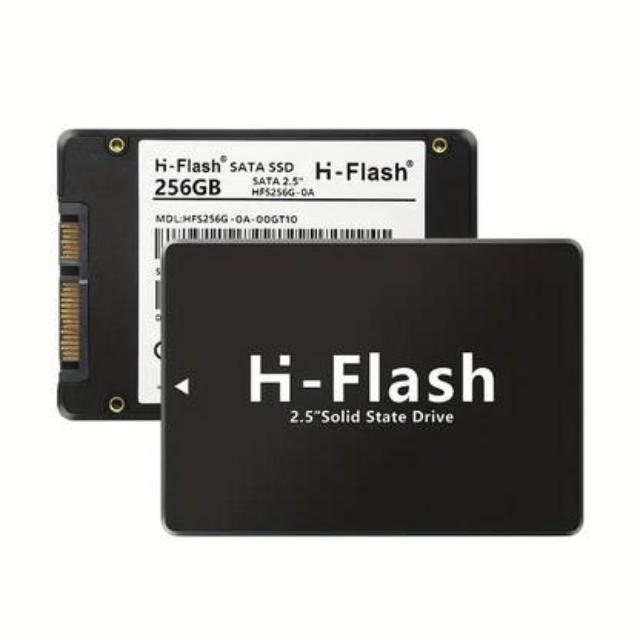DISK: (155, 236, 590, 542), (52, 122, 484, 424)
